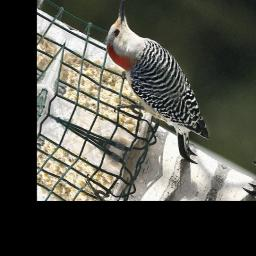Woodpecker: (77, 0, 243, 166)
